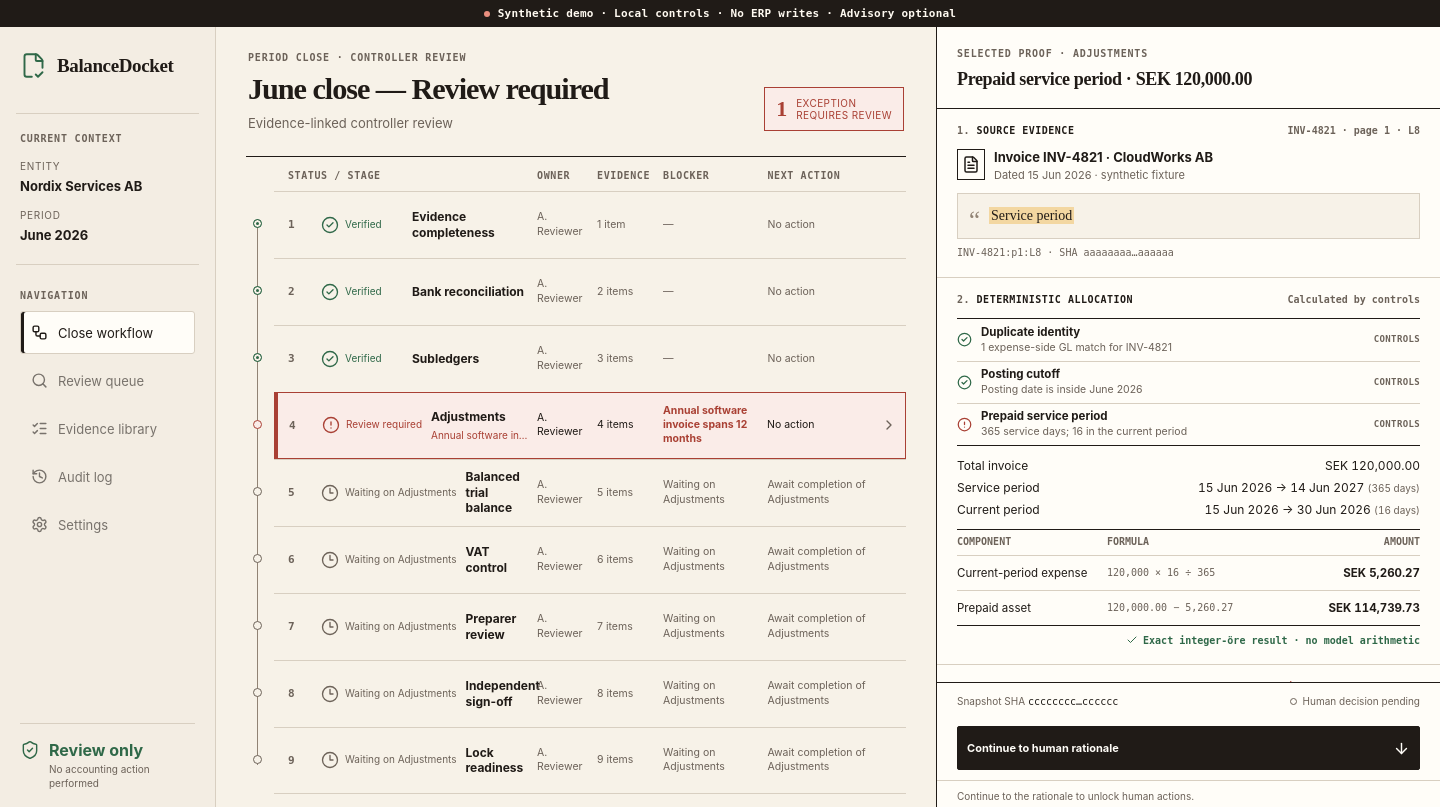
Test case: BalanceDocket reviewer › presents the recorded reject outcome consistently
The width and height of the screenshot is (1440, 807).
(page scrolled)
Click the button "Continue to human rationale": {"x": 1043, "y": 748} x1=957 y1=726 x2=1420 y2=770
(page scrolled)
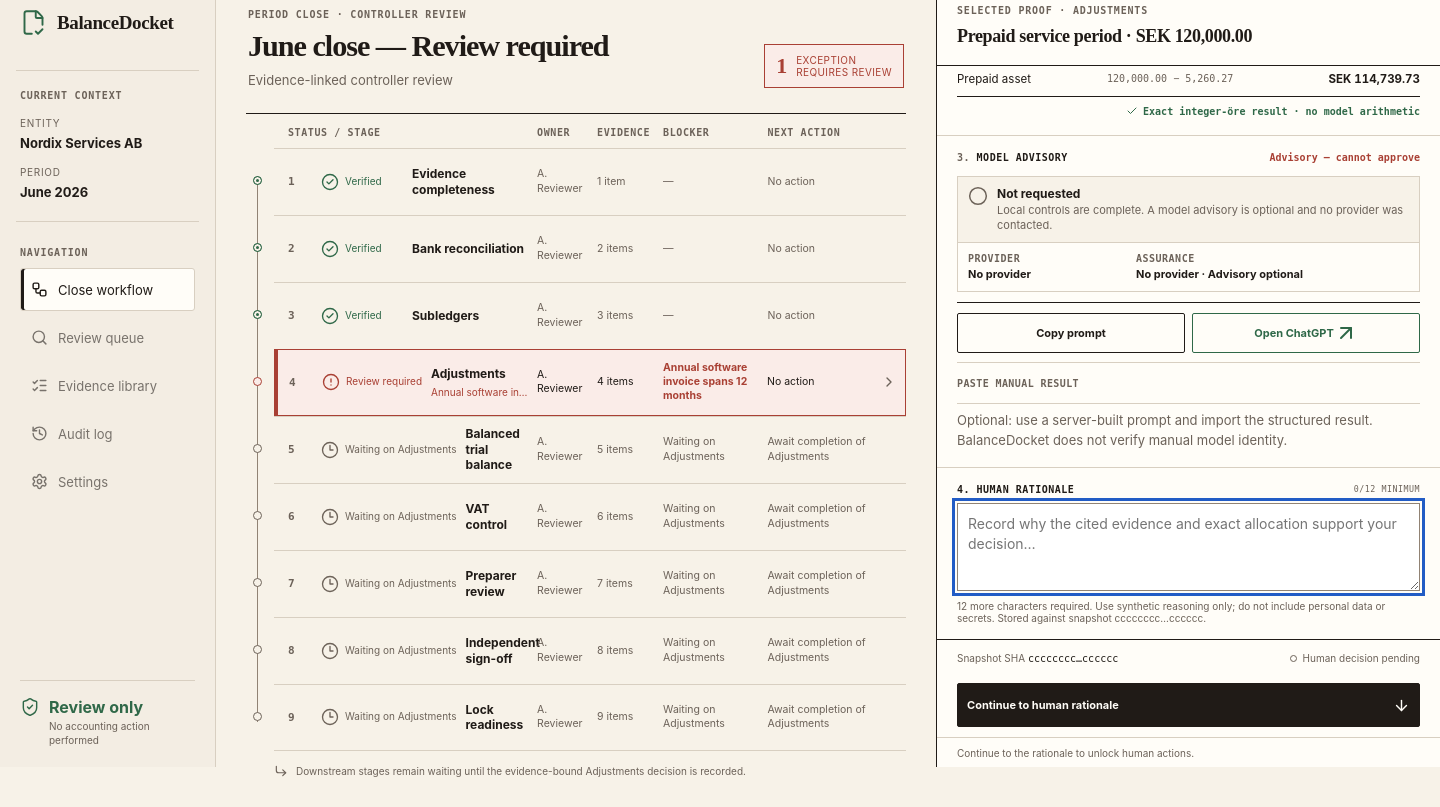
In the text box labelled "4. Human rationale 0/12 minimum": {"x": 1188, "y": 547} x1=957 y1=503 x2=1420 y2=591, type "The evidence-bound review supports this recorded human outcome."
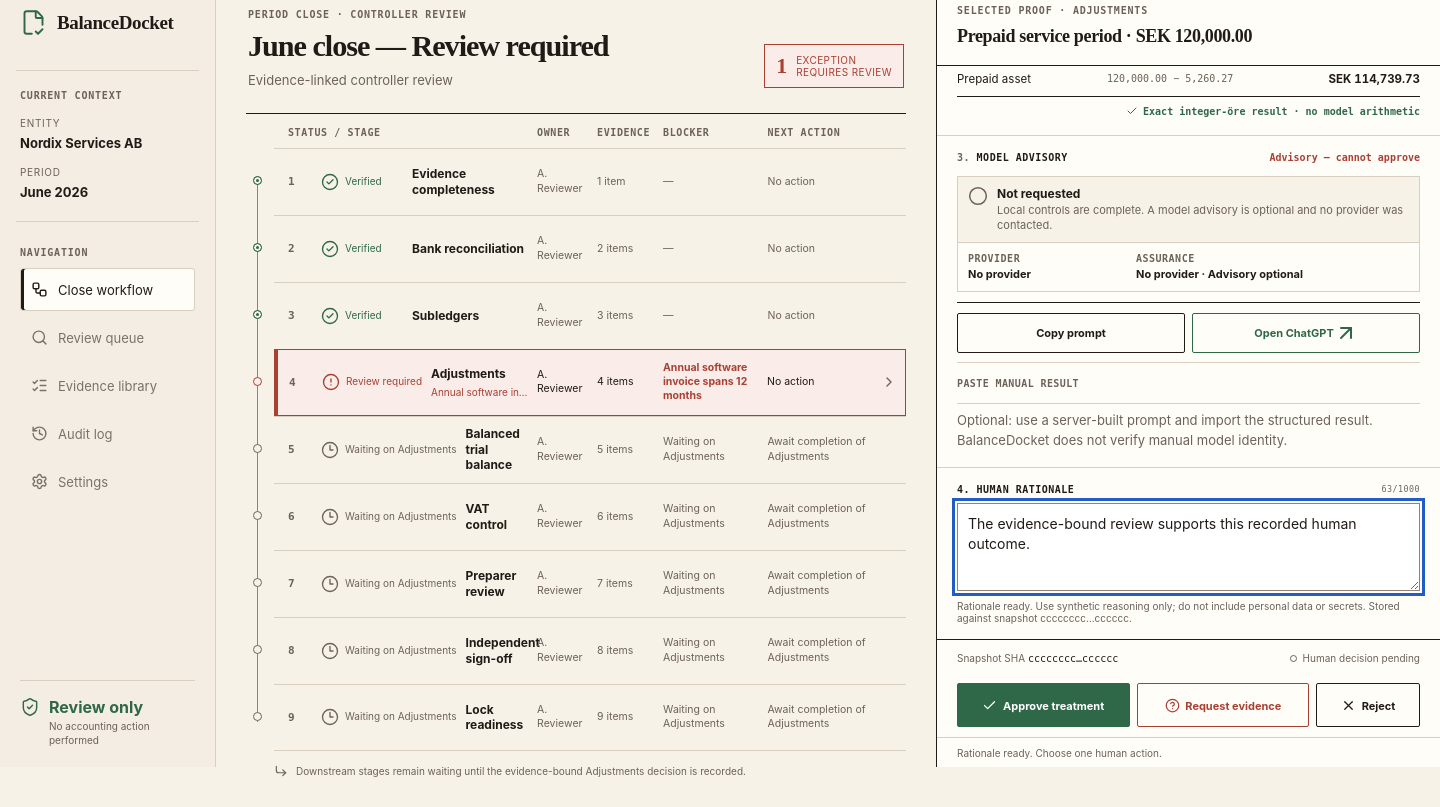
Click the button "Reject": {"x": 1368, "y": 705} x1=1316 y1=683 x2=1420 y2=727
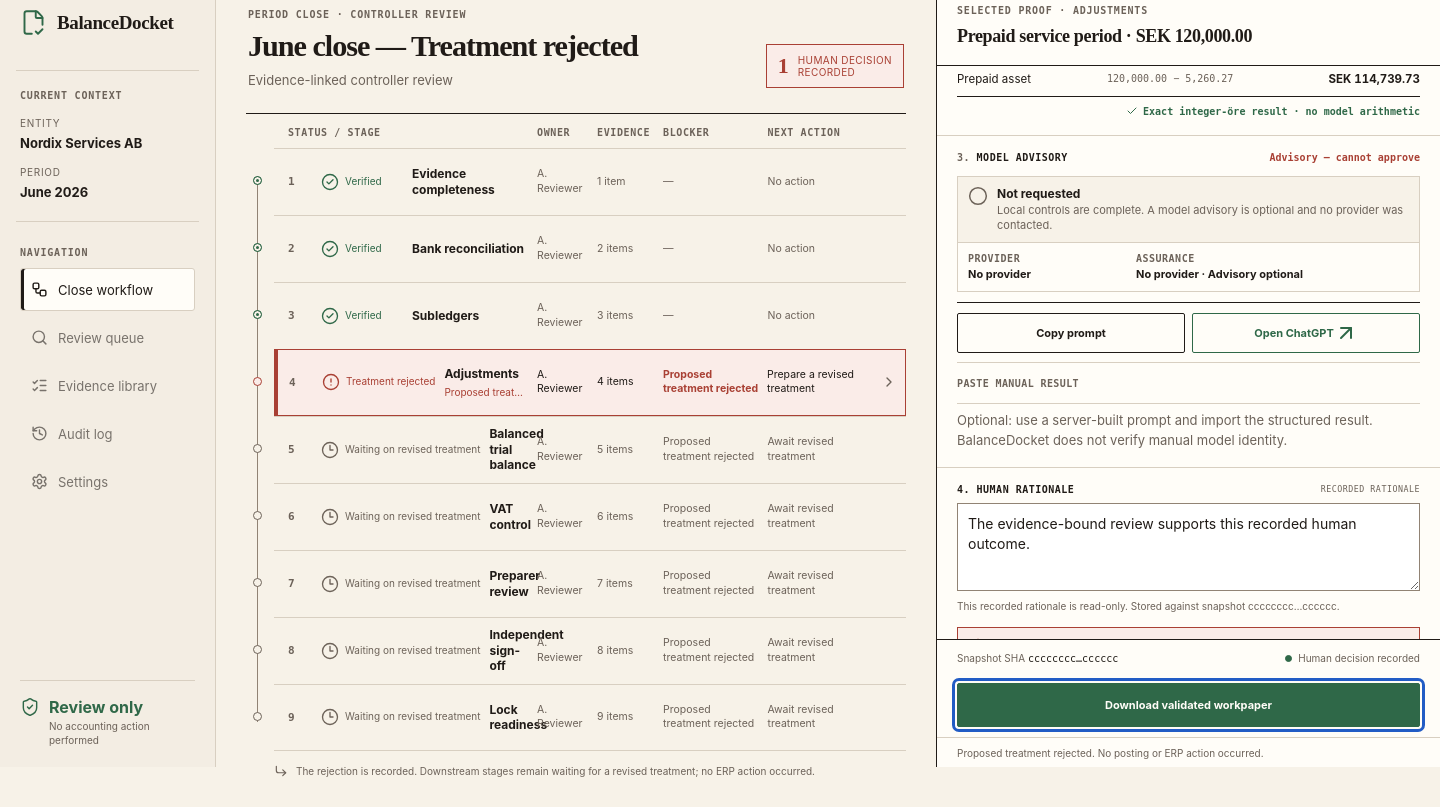
Expected: the element named "1 human decision recorded" is shown, x1=766 y1=44 x2=904 y2=88
Expected: the text "Waiting on revised treatment" below "Balanced trial balance" is shown, x1=345 y1=443 x2=480 y2=455
Expected: the text "rejection is recorded" is shown, x1=296 y1=765 x2=815 y2=777
